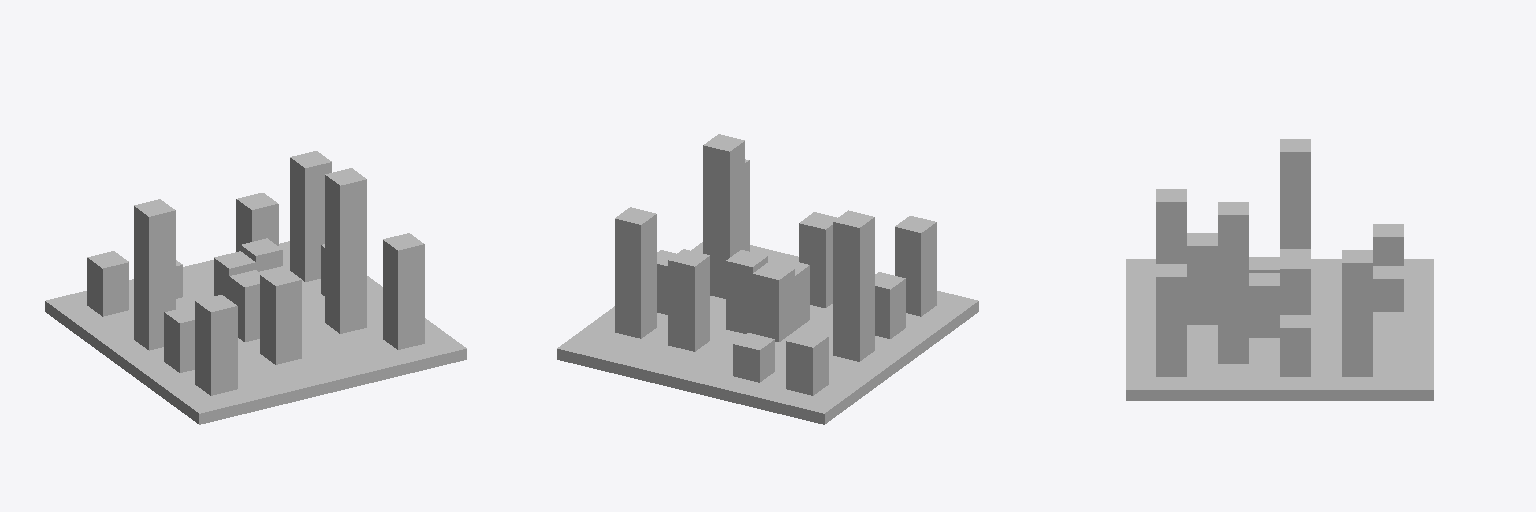
Rendered from town.obj.
3 views of the same model, side by side, from view 1: azimuth 30°, elevation 25°; view 2: azimuth 150°, elevation 25°; view 3: azimuth 270°, elevation 25° (orthographic).
Visible parts, largest first — view 1: grid1; view 2: grid1; view 3: grid1.
Part boxes in pixels (bbox=[...]): grid1: bbox=[45, 151, 466, 424]; grid1: bbox=[557, 134, 978, 424]; grid1: bbox=[1126, 139, 1433, 400].
Bounding box in the file's own units: 5 × 2.85 × 5.